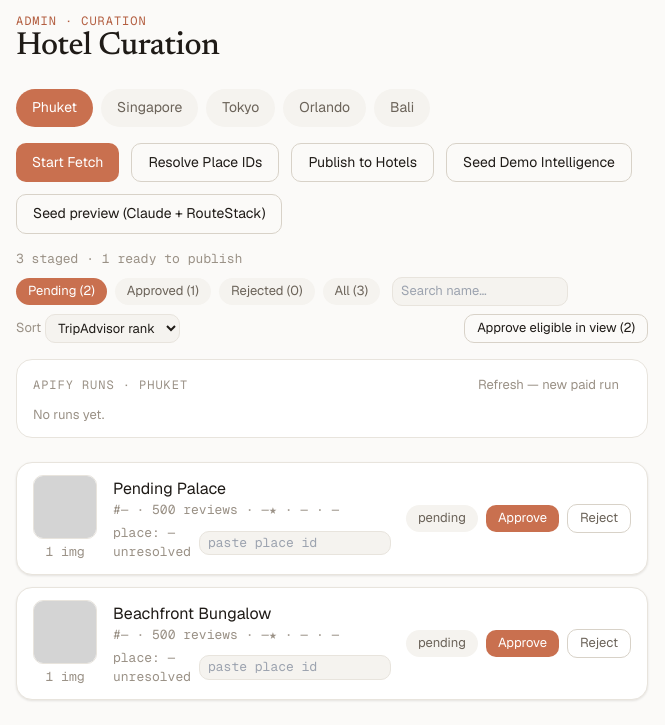
Test: Admin Curation page › (h) status filter + search narrow the visible list
The image size is (665, 725).
Expected: the text "Pending Palace" is shown, [113, 478, 226, 499]
Expected: the text "Approved Arms" is not shown
// Switch to Approved → only the approved one shows.
Click the button "Approved (1)" at (163,291), box [115, 278, 211, 305]
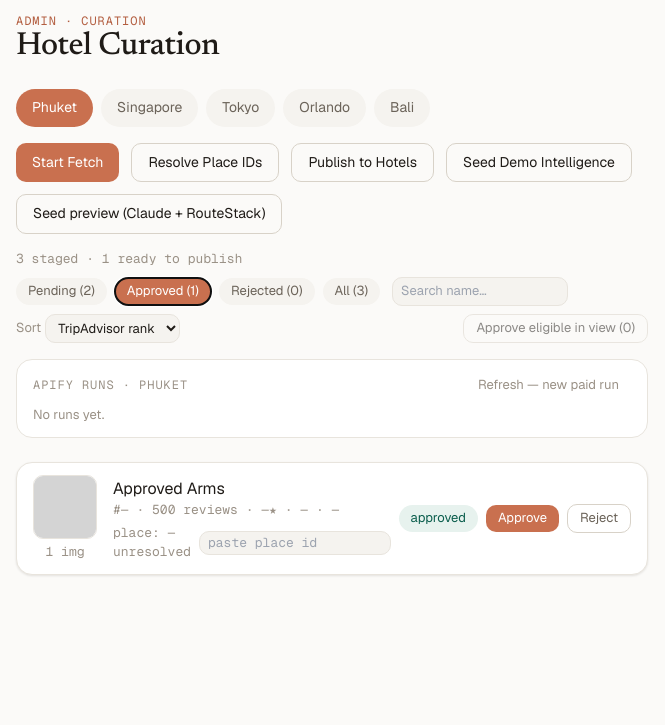
Expected: the text "Approved Arms" is shown, [113, 478, 225, 499]
Expected: the text "Pending Palace" is gone
// All + search "beach" → only the matching pending hotel.
Click the button "All (3)" at (351,291), box [322, 278, 380, 305]
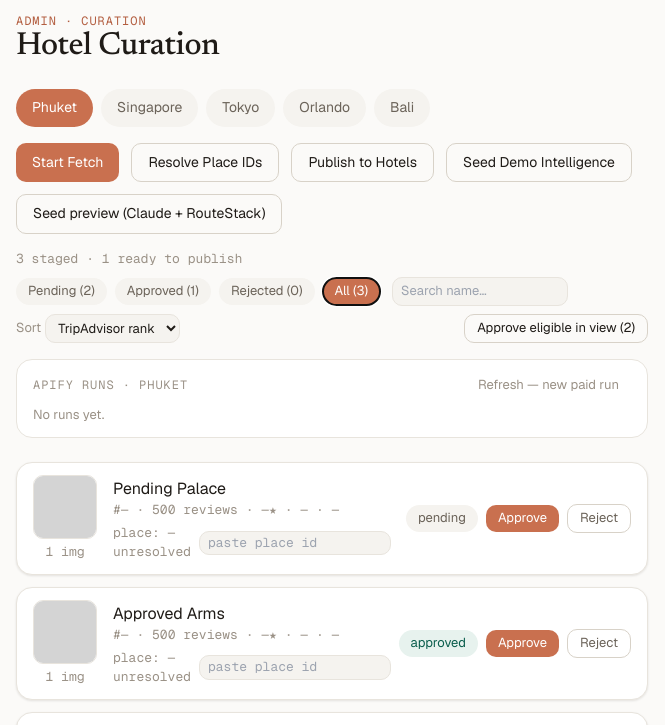
Type "beach" into the field named "search hotels" at (480,291), box [392, 277, 568, 306]
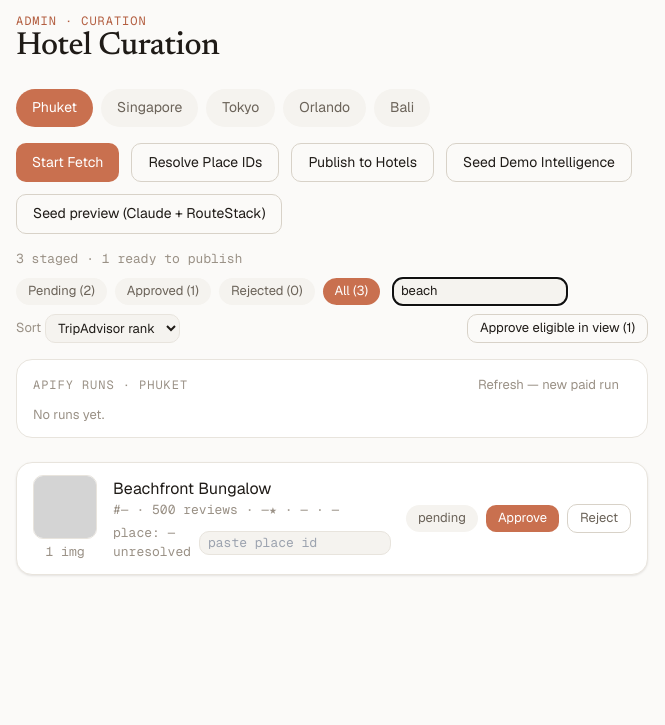
Expected: the text "Beachfront Bungalow" is shown, [113, 478, 271, 499]
Expected: the text "Pending Palace" is gone
Expected: the text "Approved Arms" is gone
